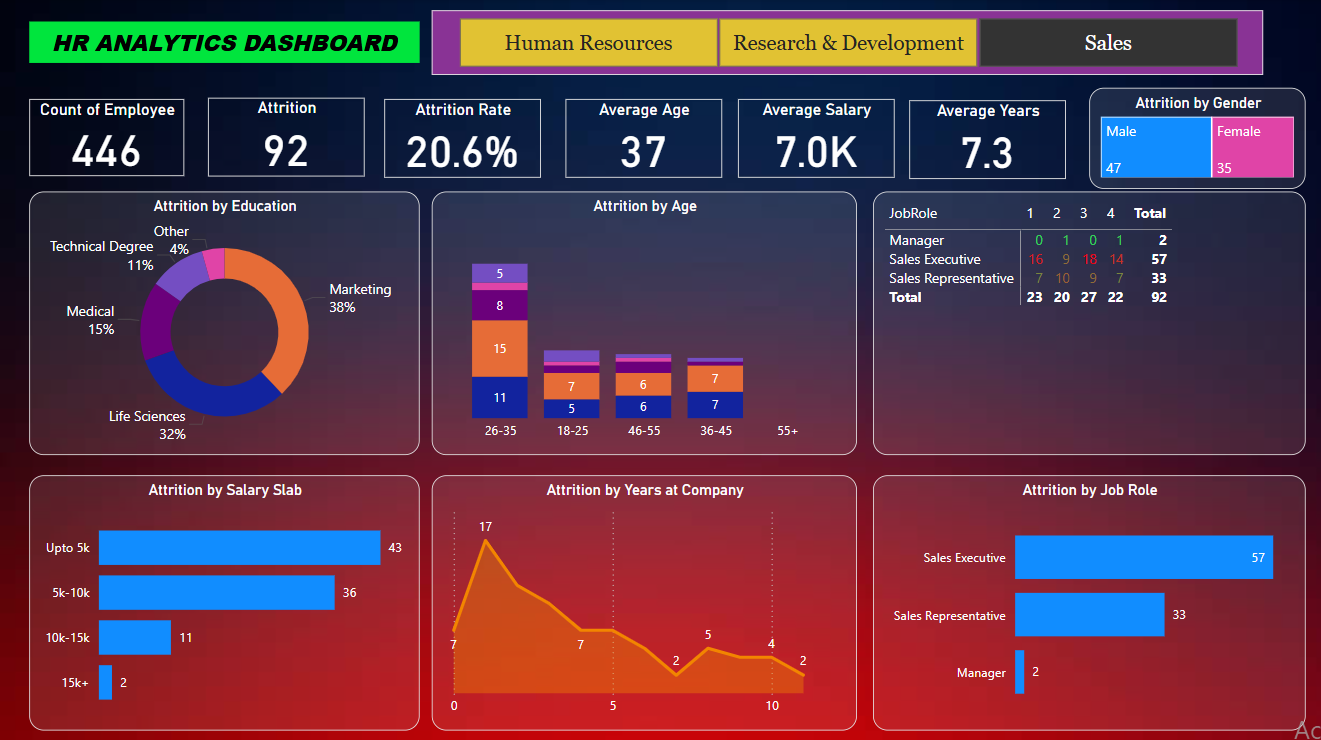

What the dashboard file says about the page in this screenshot:
{"tool":"powerbi","page":{"name":"Page 1","canvas":[1280,720],"ordinal":0},"visuals":[{"type":"card","title":"Count of Employee","fields":{"Values":["CountNonNull(HR_Analytics.EmpID)"]},"box":[30.2,96.5,149.6,74.8],"z":0},{"type":"card","title":"Attrition","fields":{"Values":["HR_Analytics.Count of AttritionCount running total in AttritionCount","Sum(HR_Analytics.AttritionCount)"]},"box":[202.7,95.3,150.8,76],"z":1000},{"type":"card","title":"Attrition Rate","fields":{"Values":["HR_Analytics.AttritionRate"]},"box":[372.8,96.5,150.8,76],"z":2000},{"type":"card","title":"Average Age","fields":{"Values":["Avg(HR_Analytics.Age)"]},"box":[547.7,96.5,150.8,76],"z":3000},{"type":"card","title":"Average Salary","fields":{"Values":["Avg(HR_Analytics.MonthlyIncome)"]},"box":[714.2,96.5,150.8,76],"z":4000},{"type":"card","title":"Average Years","fields":{"Values":["Avg(HR_Analytics.YearsAtCompany)"]},"box":[879.5,97.7,150.8,76],"z":5000},{"type":"donutChart","title":"Attrition by Education","fields":{"Y":["Sum(HR_Analytics.AttritionCount)"],"Category":["HR_Analytics.EducationField"],"Series":["HR_Analytics.EducationField"]},"box":[30.2,185.8,376.4,254.6],"z":6000},{"type":"columnChart","title":"Attrition by Age","fields":{"Category":["HR_Analytics.AgeGroup"],"Y":["Sum(HR_Analytics.AttritionCount)"],"Series":["HR_Analytics.EducationField"]},"box":[418.6,185.8,410.2,254.6],"z":7000},{"type":"pivotTable","fields":{"Rows":["HR_Analytics.JobRole"],"Columns":["HR_Analytics.JobSatisfaction"],"Values":["Sum(HR_Analytics.AttritionCount)"]},"box":[844.5,185.8,417.4,254.6],"z":8000},{"type":"barChart","title":"Attrition by Salary Slab","fields":{"Category":["HR_Analytics.SalarySlab"],"Y":["Sum(HR_Analytics.AttritionCount)"]},"box":[30.2,459.7,376.4,246.1],"z":9000},{"type":"barChart","title":"Attrition by Job Role","fields":{"Category":["HR_Analytics.JobRole"],"Y":["Sum(HR_Analytics.AttritionCount)"]},"box":[844.5,459.7,417.4,246.1],"z":10000},{"type":"areaChart","title":"Attrition by Years at Company","fields":{"Category":["HR_Analytics.YearsAtCompany"],"Y":["Sum(HR_Analytics.AttritionCount)"]},"box":[418.6,459.7,410.2,246.1],"z":11000},{"type":"treemap","title":"Attrition by Gender","fields":{"Group":["HR_Analytics.Gender"],"Values":["Sum(HR_Analytics.AttritionCount)"]},"box":[1053.2,85.7,208.7,97.7],"z":12000},{"type":"slicer","fields":{"Values":["HR_Analytics.Department"]},"box":[418.6,10.9,802.3,62.7],"z":13000},{"type":"textbox","box":[30.2,21.7,376.4,39.8],"z":14000}]}

Visuals, with their boxes in screenshot pixels (x1, y1, x2, y2), scaled from the page's 1280x720 canvas onto the 1321x740 screenshot:
"Count of Employee" card: 31:99:186:176
"Attrition" card: 209:98:365:176
"Attrition Rate" card: 385:99:540:177
"Average Age" card: 565:99:721:177
"Average Salary" card: 737:99:893:177
"Average Years" card: 908:100:1063:179
"Attrition by Education" donutChart: 31:191:420:453
"Attrition by Age" columnChart: 432:191:855:453
pivotTable - HR_Analytics.JobRole x HR_Analytics.JobSatisfaction: 872:191:1302:453
"Attrition by Salary Slab" barChart: 31:472:420:725
"Attrition by Job Role" barChart: 872:472:1302:725
"Attrition by Years at Company" areaChart: 432:472:855:725
"Attrition by Gender" treemap: 1087:88:1302:188
slicer - HR_Analytics.Department: 432:11:1260:76
textbox: 31:22:420:63
